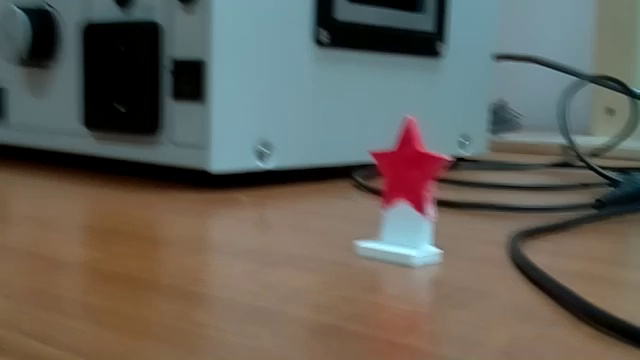star: (346, 106, 469, 268)
